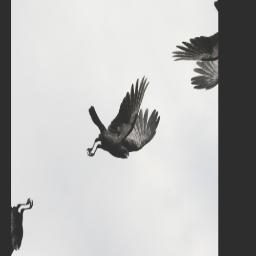Crow: (69, 63, 172, 186)
